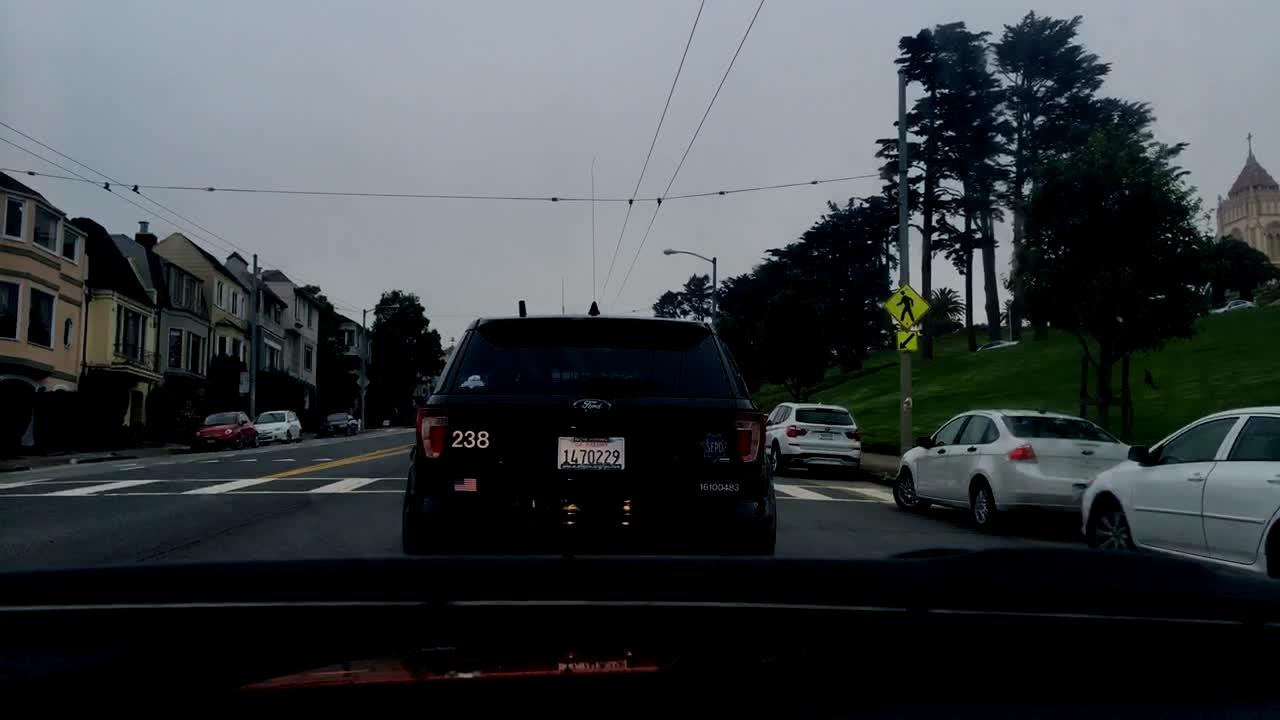ford: (573, 394, 613, 417)
